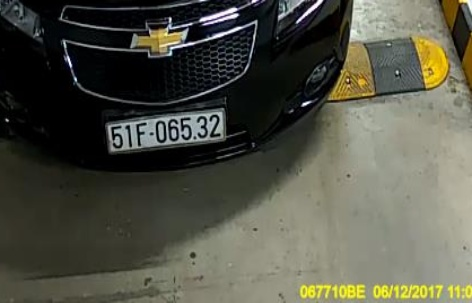plate: (103, 107, 228, 154)
